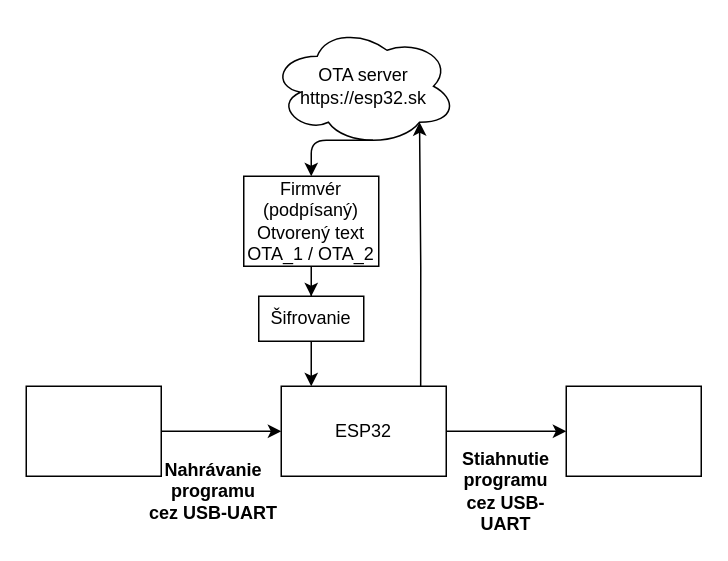
Some shapes in this 728 by 561 pixel diagram are drawn without their labels. Here are the shapes that lost their labels. From the top down, the box of each, then its label:
(25, 385, 161, 476): Firmvér (podpísaný) šifrovaný FACTORY_APP
(565, 385, 701, 476): Firmvér (podpísaný) šifrovaný (nespustiteľný)
